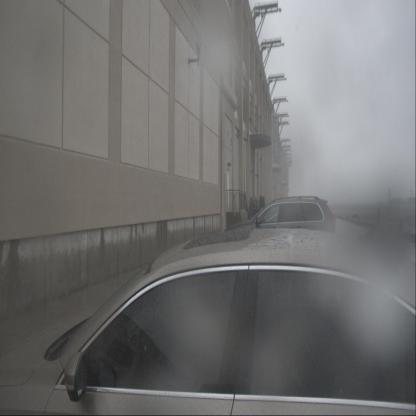vehicle-car: (0, 226, 416, 416), (222, 196, 336, 260)
